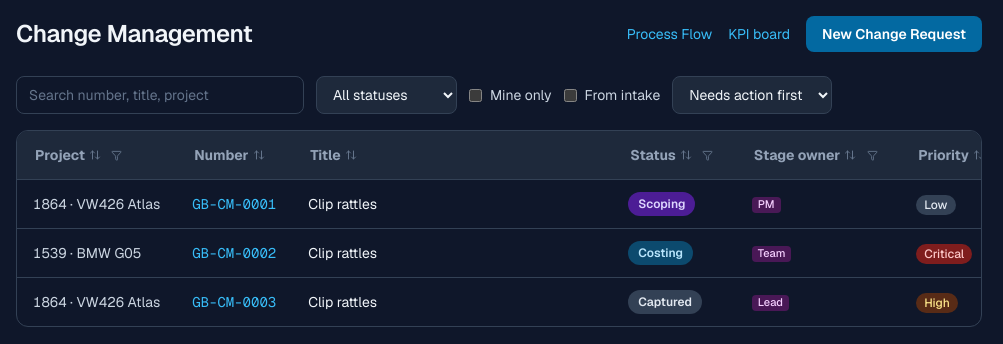
Scenario: ChangesPage column sort and filter › sorts by a column over the list order, in the URL; the sort dropdown takes it back
This screenshot has width=1003, height=344.
Later steps or results of the test are not shown.
Expected: the link "GB-CM-0003" is shown, x1=192 y1=293 x2=276 y2=311
Click the button "Priority".
click(952, 155)  # box x1=916 y1=145 x2=987 y2=165
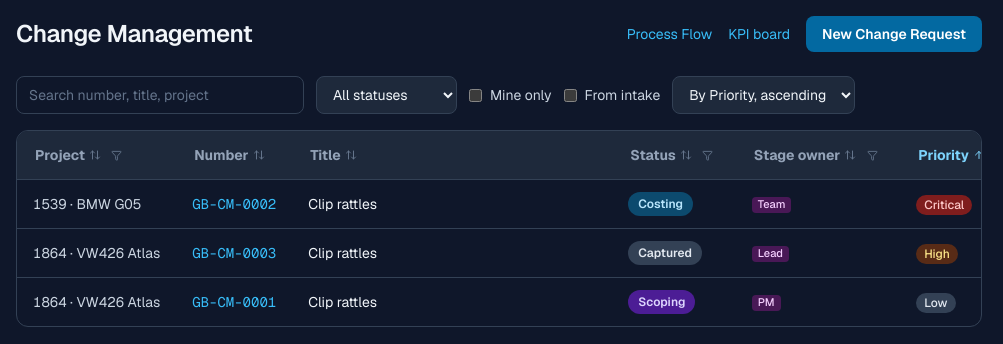
Now the dropdown with test id "changes-sort" shows "By Priority, ascending", box x1=672 y1=76 x2=855 y2=114
